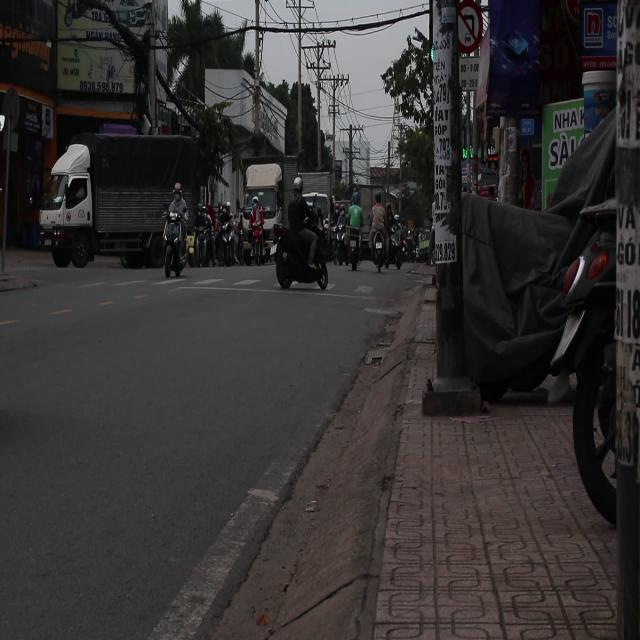motorbike: (273, 225, 330, 291), (162, 207, 193, 281), (247, 200, 269, 264), (193, 209, 214, 268), (217, 220, 240, 266), (332, 224, 350, 266)
truck: (41, 132, 192, 273)
